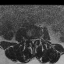CCS_normal: (32, 37, 33, 45)
LFS_severe_stenosis: (35, 36, 37, 42)
LLS_stenosis: (33, 37, 35, 43)
RFS_severe_stenosis: (27, 37, 29, 42)
RLS_stenosis: (30, 37, 32, 43)
